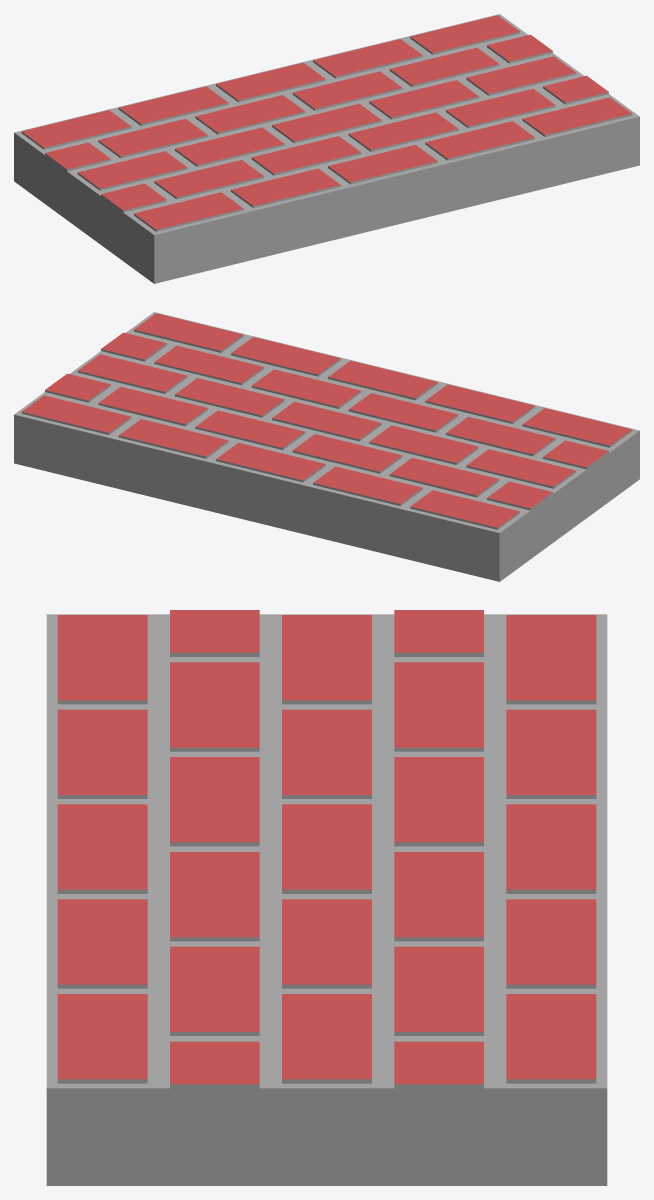
File: Brick Wall Updated.obj
3 views of the same model, one above another, from view 1: azimuth 30°, elevation 25°; view 2: azimuth 150°, elevation 25°; view 3: azimuth 270°, elevation 25° (orthographic). The views are drawn at different scales.
Visible parts, largest first — view 1: Body1; view 2: Body1; view 3: Body1.
Part boxes in pixels (<box>): Body1: <box>14,14,639,283</box>; Body1: <box>14,312,639,581</box>; Body1: <box>46,610,607,1185</box>.
Size of the model in its own units: 10 by 1 by 5.
